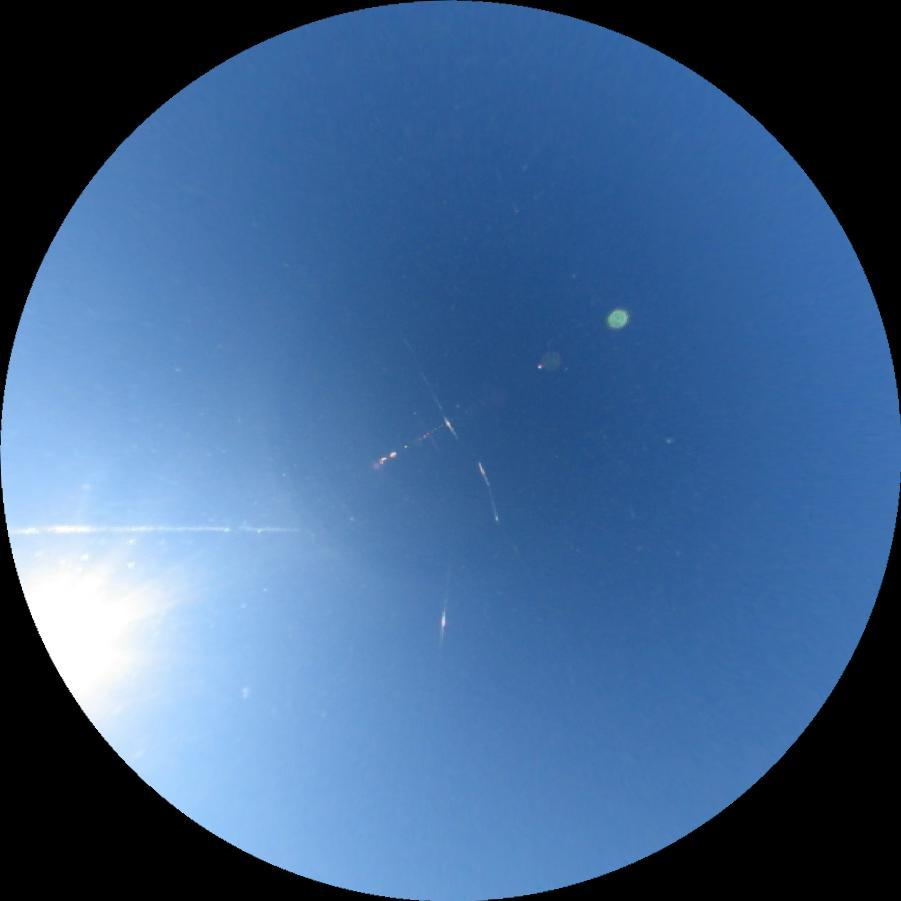parasite: (402, 342, 461, 443), (8, 520, 301, 538), (476, 459, 501, 522), (438, 590, 450, 647)
sun: (12, 544, 147, 698)
